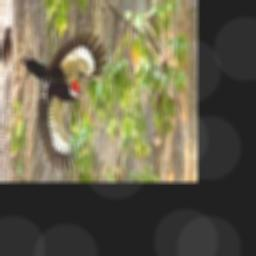Woodpecker: (21, 29, 110, 169)
